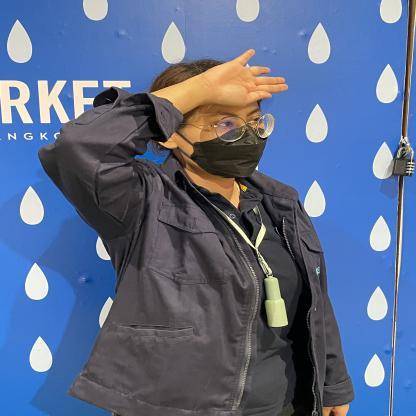Sick: (86, 42, 321, 126)
